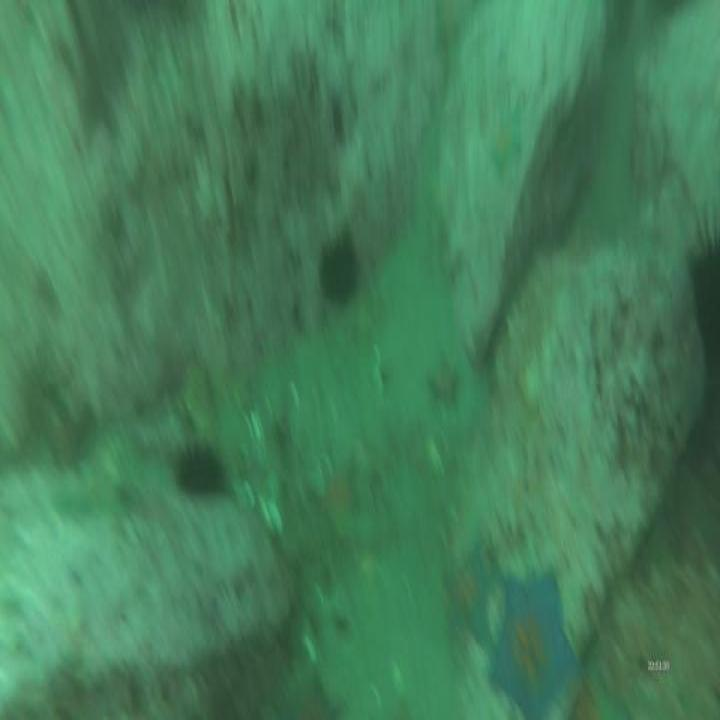echinus: (318, 240, 358, 304), (174, 452, 226, 500)
starfish: (489, 572, 581, 713), (438, 554, 496, 652), (320, 462, 358, 516), (493, 112, 523, 180), (431, 357, 461, 407)
